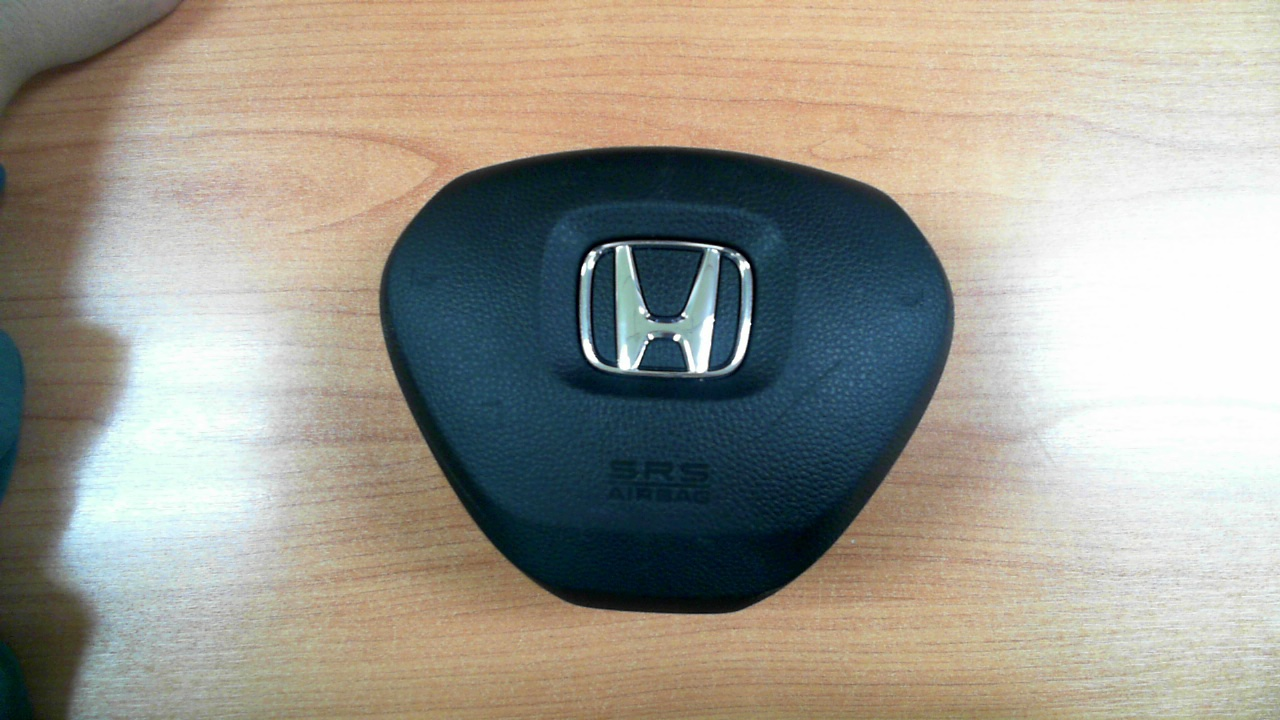Airbag: (378, 146, 954, 615)
Honda: (578, 239, 754, 382)
